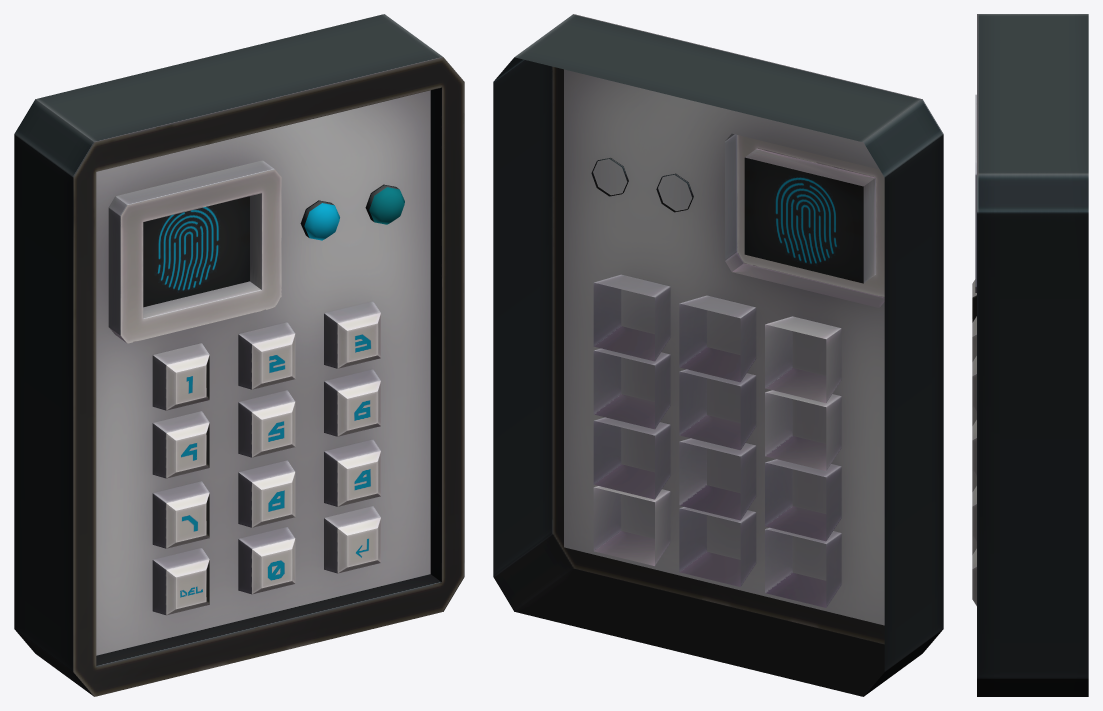
The model's file is SM_Keypad 1.fbx.
The picture shows the model from 3 angles, left to right: view 1: azimuth 30°, elevation 25°; view 2: azimuth 150°, elevation 25°; view 3: azimuth 270°, elevation 25°; orthographic projection. The views are drawn at different scales.
Visible parts, largest first — view 1: Cylinder.003; view 2: Cylinder.003; view 3: Cylinder.003.
Part boxes in pixels (x1,y1,x2,y2): Cylinder.003: (14, 14, 464, 696); Cylinder.003: (493, 14, 943, 696); Cylinder.003: (972, 14, 1088, 696).
Size of the model in its own units: 98.39 by 133 by 26.85.
1 material, 1 textured.
